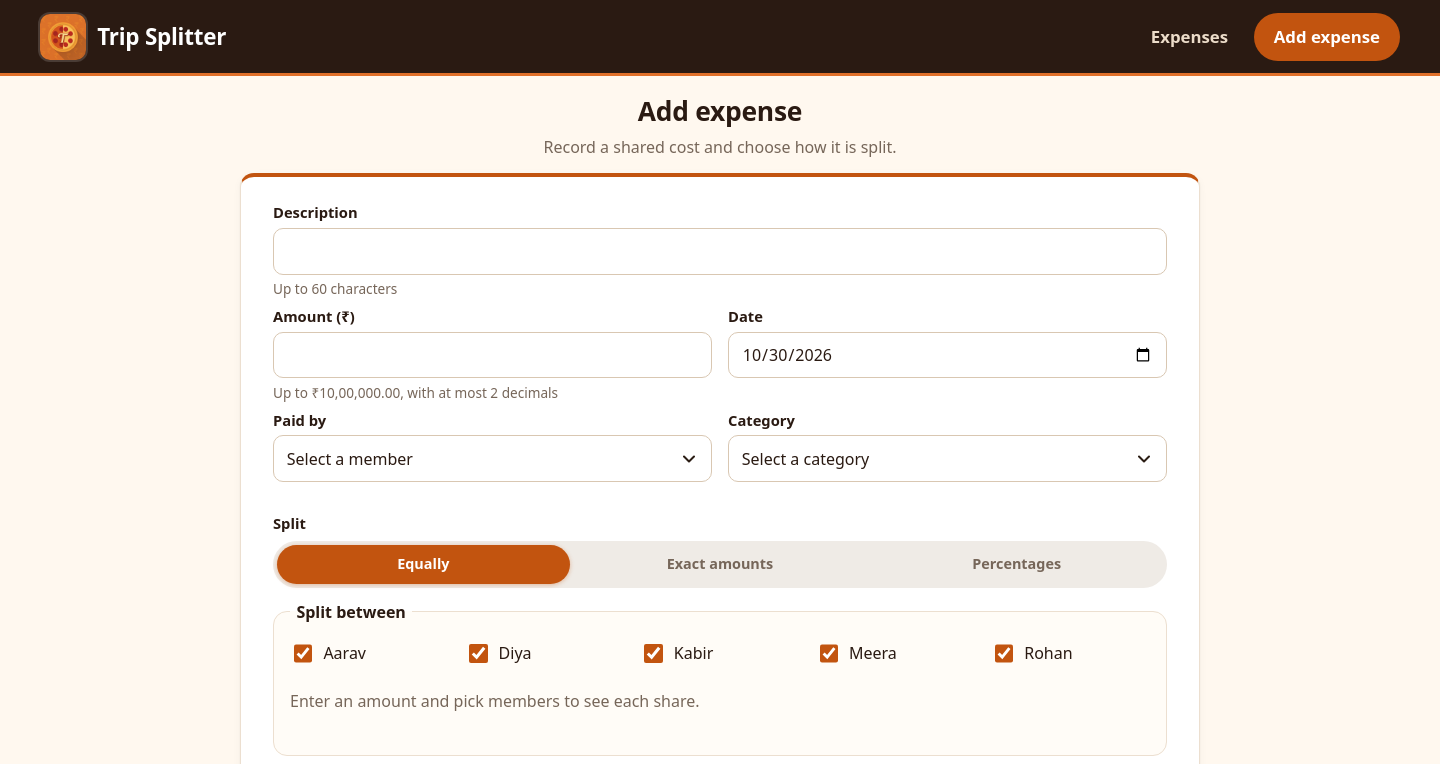
Test case: adding an expense › lets you add a new member and pick them as payer
Select "+ Add new member…" in the dropdown labelled "Paid by" at (492, 459), box [273, 435, 712, 482]
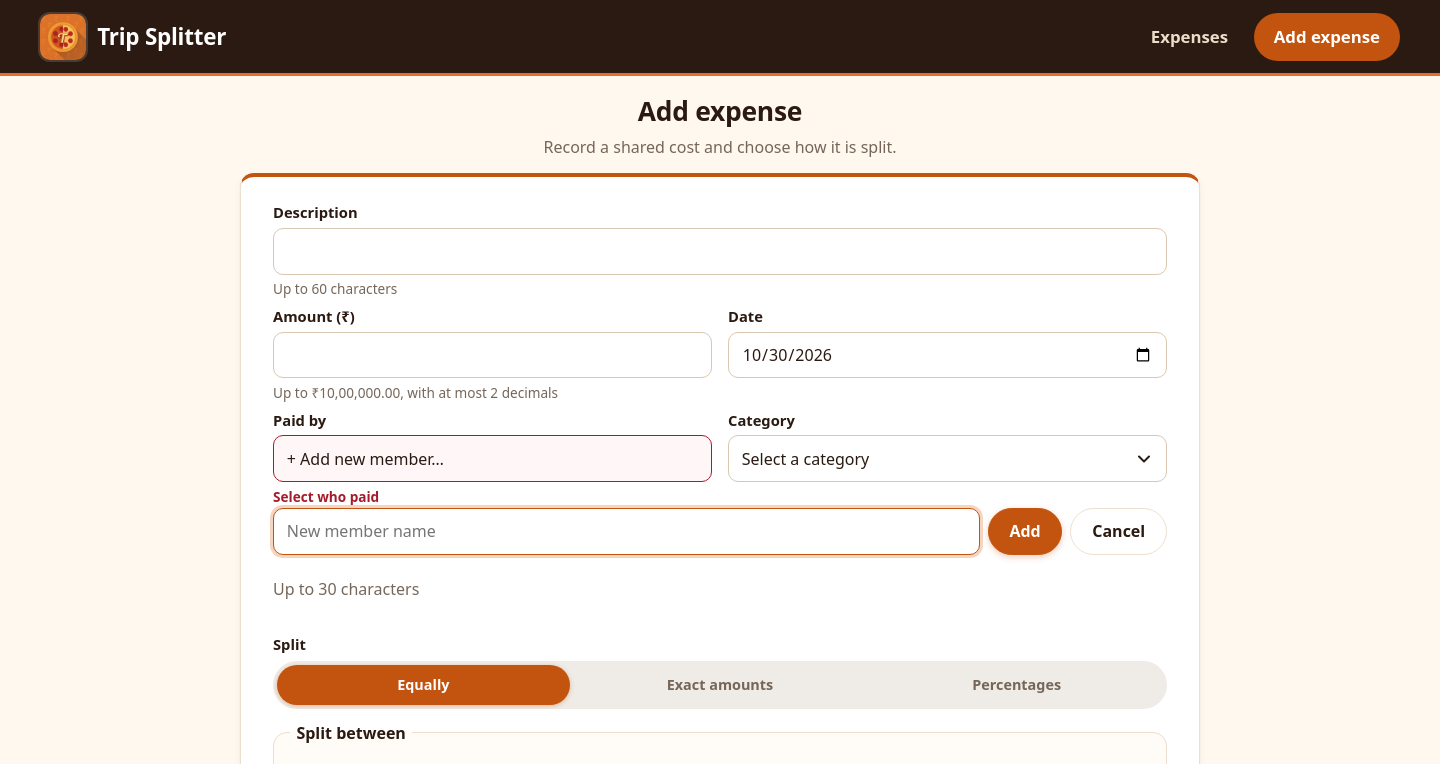
Type "Zara" into the field labelled "New member name" at (626, 531), box [273, 508, 980, 555]
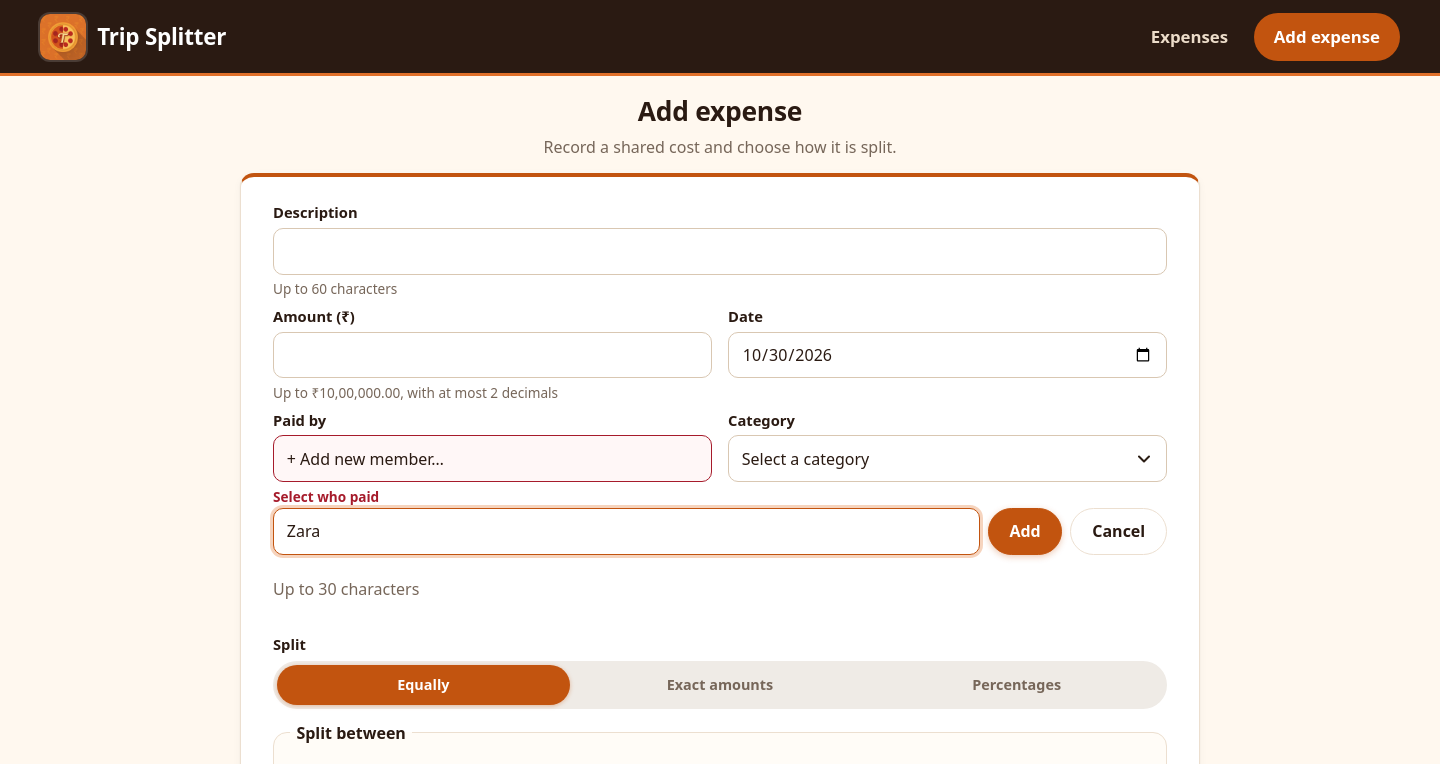
Click the button "Add" at (1025, 531), box [988, 508, 1062, 555]
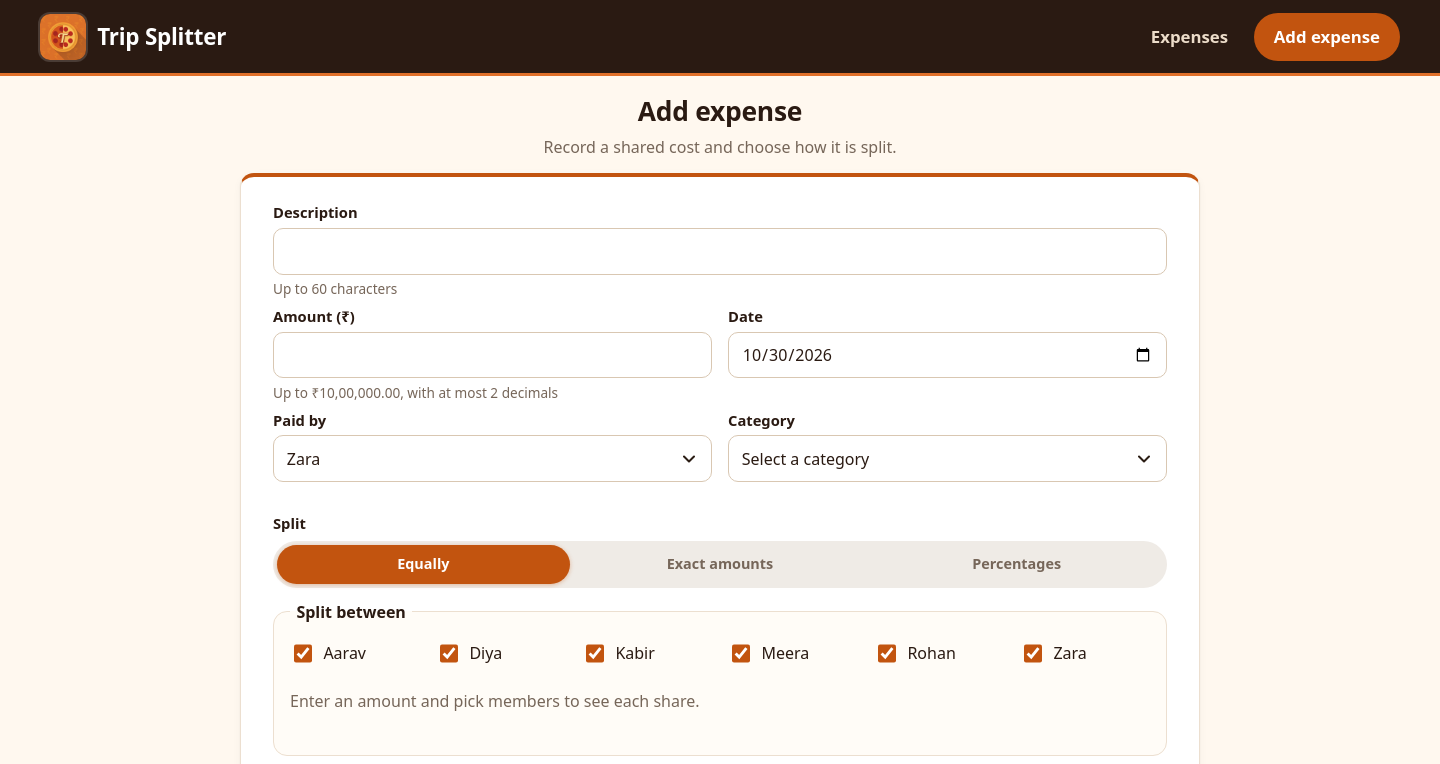
Check: the checkbox labelled "Zara" is checked, box [1024, 644, 1042, 663]
